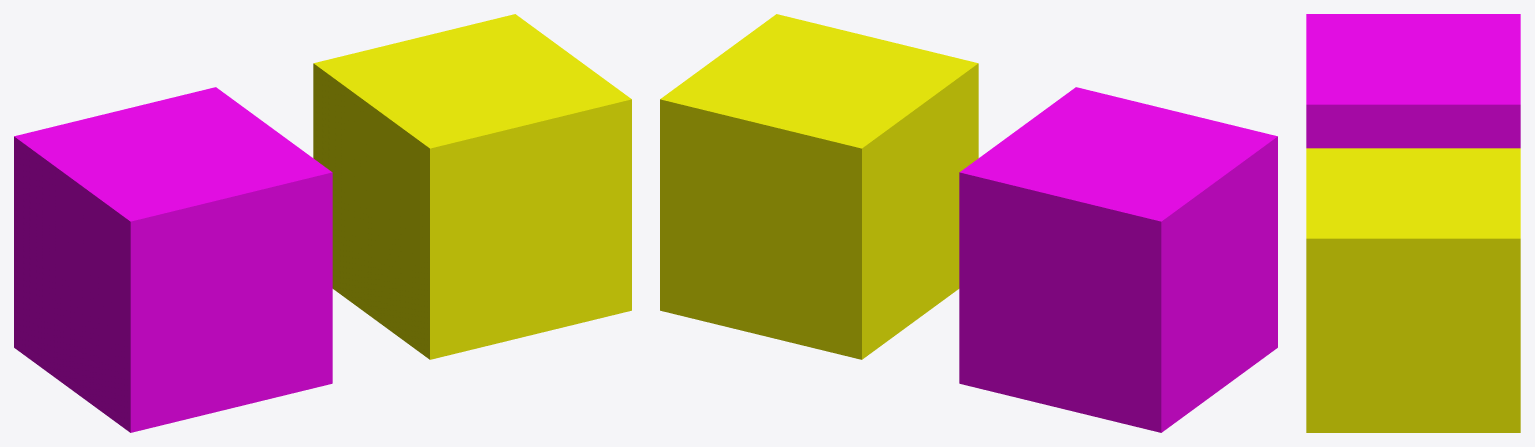
Rendered from cubes.gltf.
3 renders of one model, left to right at view 1: azimuth 30°, elevation 25°; view 2: azimuth 150°, elevation 25°; view 3: azimuth 270°, elevation 25°, orthographic. The views are drawn at different scales.
Visible parts, largest first — view 1: Box (×2); view 2: Box (×2); view 3: Box (×2).
Boxes of the visible parts, x1,y1,x2,y2 form: Box (×2): (14, 14, 631, 432); Box (×2): (660, 14, 1277, 432); Box (×2): (1306, 14, 1520, 432).
Bounding box in the file's own units: 2.48 × 1 × 1.
